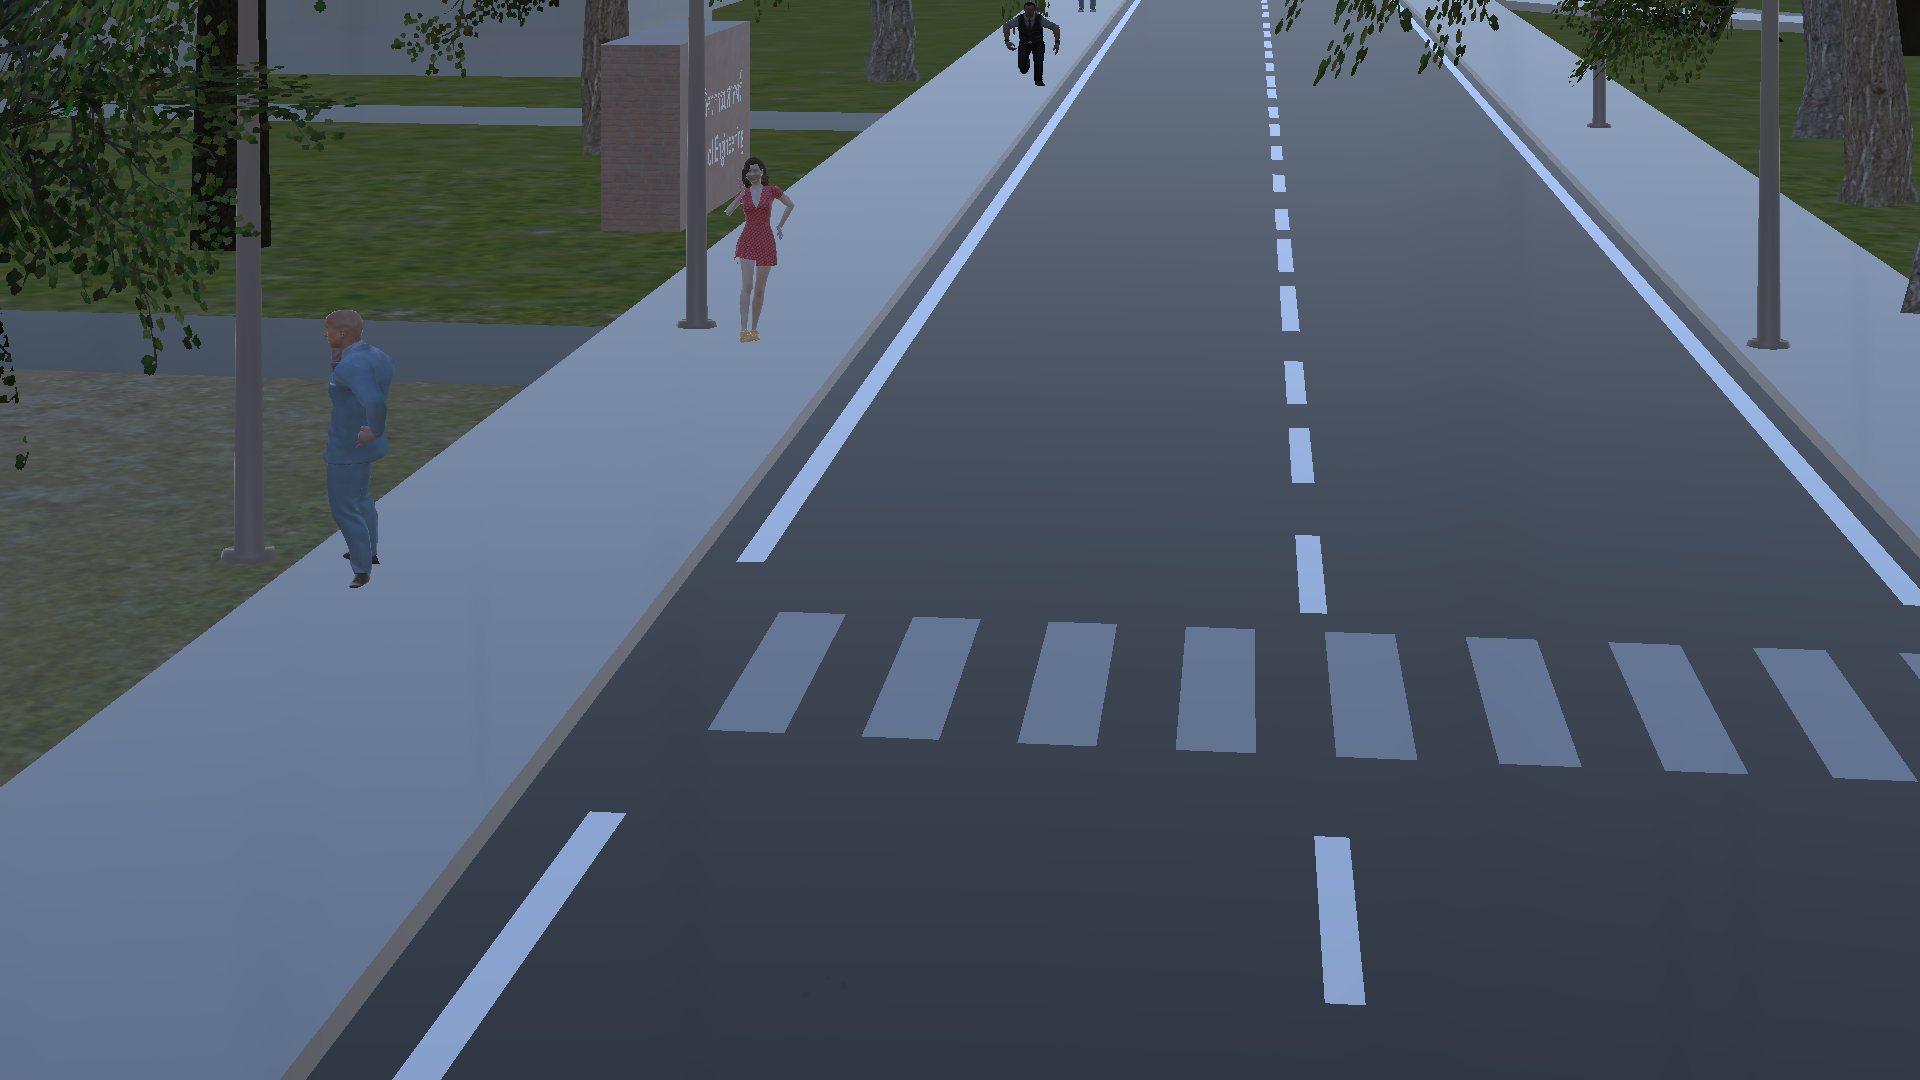pedestrian: (295, 291, 416, 616), (717, 154, 800, 359), (995, 1, 1074, 99)
